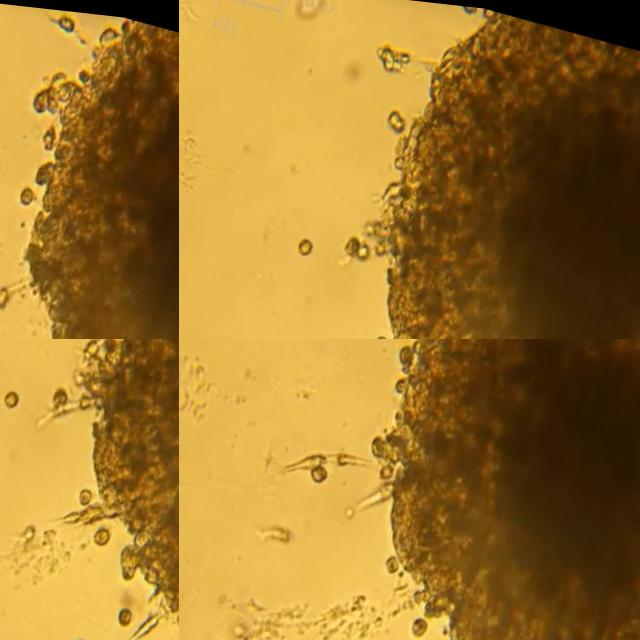cell: (133, 607, 167, 640), (286, 452, 330, 469), (342, 446, 376, 462), (390, 104, 409, 129), (381, 39, 396, 67), (53, 10, 76, 27), (99, 523, 119, 540), (6, 388, 24, 406), (301, 234, 317, 254), (22, 180, 36, 202), (0, 281, 12, 305), (418, 613, 436, 629), (126, 599, 139, 620), (360, 239, 374, 257), (389, 54, 405, 69), (317, 465, 334, 479), (391, 550, 405, 567), (351, 233, 364, 251), (85, 480, 96, 499), (399, 47, 413, 59), (380, 330, 394, 339), (463, 0, 477, 7), (81, 634, 93, 640)
tumor_mass: (366, 1, 640, 339), (352, 339, 640, 640), (29, 13, 179, 339), (41, 339, 179, 609)
